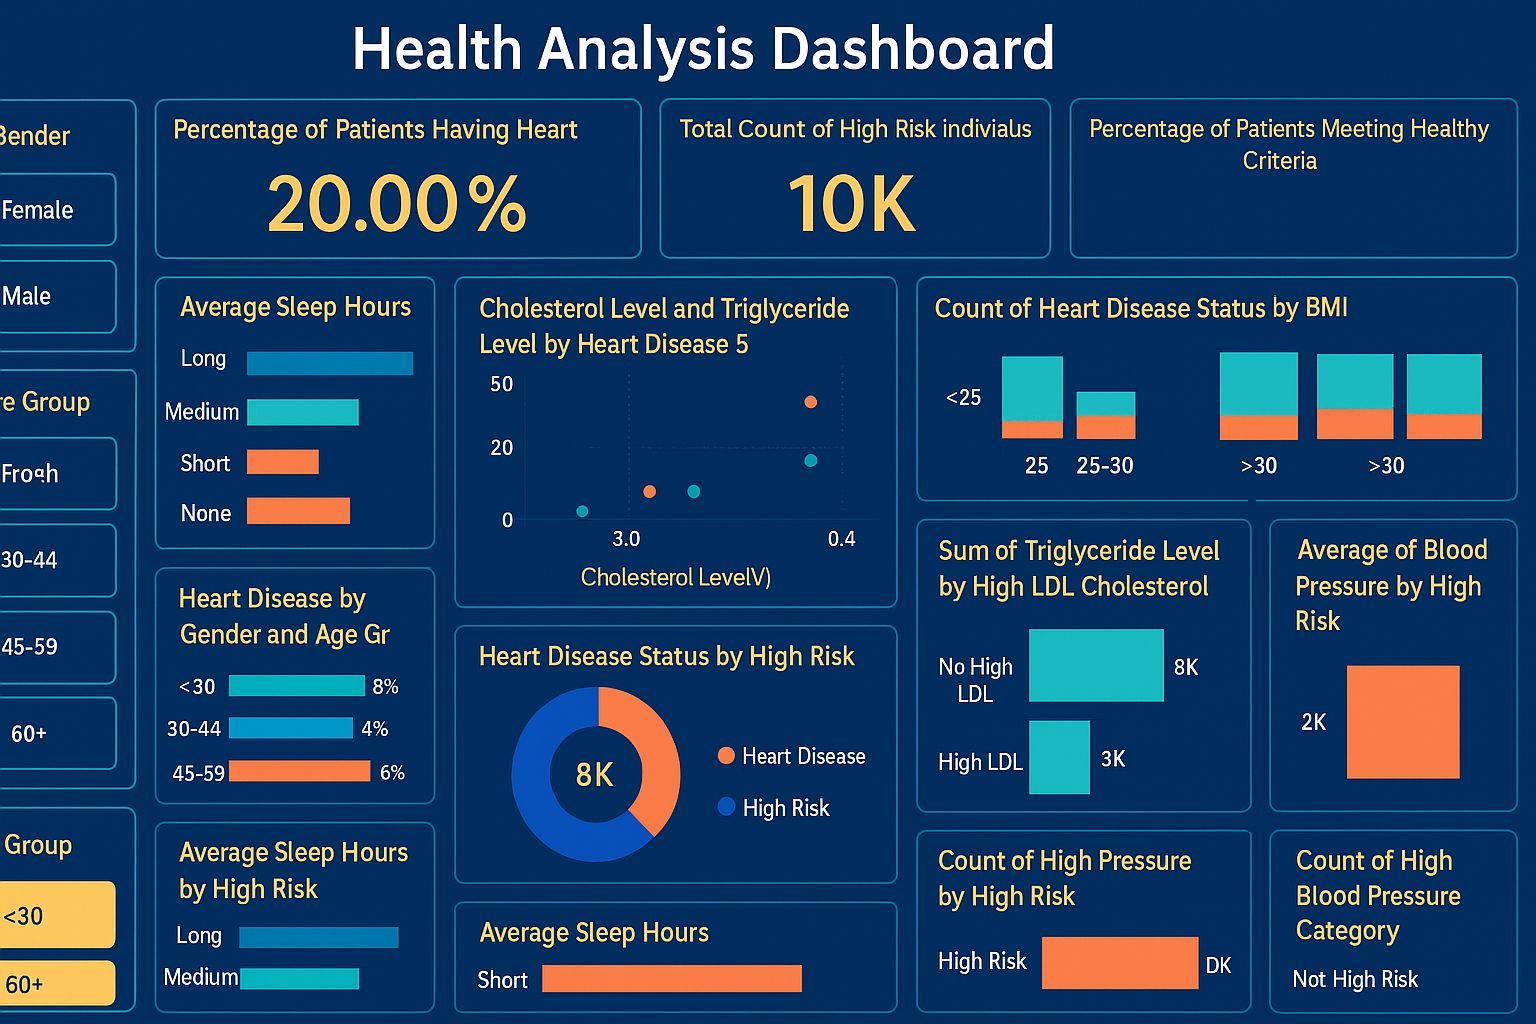

The dashboard page shown, as its layout file describes it:
{"tool":"powerbi","page":{"name":"Page 1","canvas":[1280,720],"ordinal":0},"visuals":[{"type":"donutChart","title":"Heart Disease Status by Heart Disease Status","fields":{"Category":["health.Heart Disease Status"],"Y":["CountNonNull(health.Heart Disease Status)"]},"box":[441.9,389.7,288.2,159.2],"z":0},{"type":"clusteredBarChart","fields":{"Y":["health.Average Cholesterol"],"Category":["health.Gender"],"Series":["health.Age Group"]},"box":[174.3,347.2,260.7,175.6],"z":1000},{"type":"columnChart","title":"Count of Blood Pressure Category ","fields":{"Category":["health.Blood Pressure Category"],"Y":["CountNonNull(health.Blood Pressure Category)"]},"box":[1034.7,359.5,236,203.1],"z":2000},{"type":"tableEx","fields":{"Values":["health.High Risk Flag","CountNonNull(health.High Risk Flag)"]},"box":[1037.4,573.6,230.5,131.7],"z":3000},{"type":"scatterChart","title":"Cholesterol Level and Triglyceride Level by Heart Disease Status","fields":{"X":["Sum(health.Cholesterol Level)"],"Y":["Sum(health.Triglyceride Level)"],"Category":["health.Heart Disease Status"]},"box":[441.9,182.5,288.2,196.2],"z":4000},{"type":"clusteredColumnChart","fields":{"Y":["CountNonNull(health.BMI)"],"Category":["health.Heart Disease Status"]},"box":[1036,182.5,233.3,164.7],"z":5000},{"type":"pieChart","title":"Percentage of Patient Consuming alcohol vs Heart Disease","fields":{"Category":["health.Alcohol Consumption","health.Smoking"],"Y":["CountNonNull(health.Heart Disease Status)"]},"box":[174.3,532.4,260.7,182.5],"z":6000},{"type":"barChart","fields":{"Category":["health.High Risk Flag"],"Y":["health.Average Sleep Hours"]},"box":[441.9,562.6,288.2,142.7],"z":7000},{"type":"lineChart","fields":{"Category":["health.Age Group"],"Y":["CountNonNull(health.Heart Disease Status)"]},"box":[735.5,183.9,288.2,166],"z":8000},{"type":"lineChart","fields":{"Category":["health.Gender"],"Y":["Avg(health.Blood Pressure)"]},"box":[735.5,532.4,288.2,172.9],"z":9000},{"type":"columnChart","fields":{"Category":["health.High LDL Cholesterol"],"Y":["Sum(health.Triglyceride Level)"]},"box":[735.5,359.5,288.2,163.3],"z":10000},{"type":"textbox","box":[474.8,0,488.5,64.5],"z":11000},{"type":"slicer","fields":{"Values":["health.Gender"]},"box":[17.8,64.5,144.1,208.6],"z":12000},{"type":"slicer","fields":{"Values":["health.Age Group"]},"box":[17.8,285.4,144.1,247],"z":13000},{"type":"card","title":"Total Count of High Risk Individuals","fields":{"Values":["CountNonNull(health.High Risk Flag)"]},"box":[554.4,67.2,315.6,101.5],"z":14000},{"type":"slicer","fields":{"Values":["health.High Risk Flag"]},"box":[19.2,540.7,144.1,164.7],"z":15000},{"type":"kpi","title":"Percentage of Patients Having Heart Disease ","fields":{"TrendLine":["health.Heart Disease Status"],"Indicator":["CountNonNull(health.Stress Level)"]},"box":[174.3,64.5,370.5,104.3],"z":16000},{"type":"kpi","title":"Percentage of Patients Meeting Healthy Criteria","fields":{"Indicator":["health.Healthy Metric Compliance"]},"box":[879.6,67.2,388.3,101.5],"z":17000},{"type":"tableEx","fields":{"Values":["health.Stress Level","Avg(health.Sleep Hours)","health.Heart Disease Percentage"]},"box":[174.3,183.9,259.3,153.7],"z":18000},{"type":"textbox","box":[1007.2,97.4,134.5,60.4],"z":19000}]}

Visuals, with their boxes on the page's 1280x720 design canvas (x1, y1, x2, y2). These are canvas units, not pixel positions in the 1536x1024 screenshot, which may show the page scaled, cropped or inside an application window:
"Heart Disease Status by Heart Disease Status" donutChart: region(442, 390, 730, 549)
clusteredBarChart - health.Average Cholesterol x health.Gender: region(174, 347, 435, 523)
"Count of Blood Pressure Category " columnChart: region(1035, 360, 1271, 563)
tableEx - health.High Risk Flag x CountNonNull(health.High Risk Flag): region(1037, 574, 1268, 705)
"Cholesterol Level and Triglyceride Level by Heart Disease Status" scatterChart: region(442, 182, 730, 379)
clusteredColumnChart - CountNonNull(health.BMI) x health.Heart Disease Status: region(1036, 182, 1269, 347)
"Percentage of Patient Consuming alcohol vs Heart Disease" pieChart: region(174, 532, 435, 715)
barChart - health.High Risk Flag x health.Average Sleep Hours: region(442, 563, 730, 705)
lineChart - health.Age Group x CountNonNull(health.Heart Disease Status): region(736, 184, 1024, 350)
lineChart - health.Gender x Avg(health.Blood Pressure): region(736, 532, 1024, 705)
columnChart - health.High LDL Cholesterol x Sum(health.Triglyceride Level): region(736, 360, 1024, 523)
textbox: region(475, 0, 963, 64)
slicer - health.Gender: region(18, 64, 162, 273)
slicer - health.Age Group: region(18, 285, 162, 532)
"Total Count of High Risk Individuals" card: region(554, 67, 870, 169)
slicer - health.High Risk Flag: region(19, 541, 163, 705)
"Percentage of Patients Having Heart Disease " kpi: region(174, 64, 545, 169)
"Percentage of Patients Meeting Healthy Criteria" kpi: region(880, 67, 1268, 169)
tableEx - health.Stress Level x Avg(health.Sleep Hours): region(174, 184, 434, 338)
textbox: region(1007, 97, 1142, 158)
